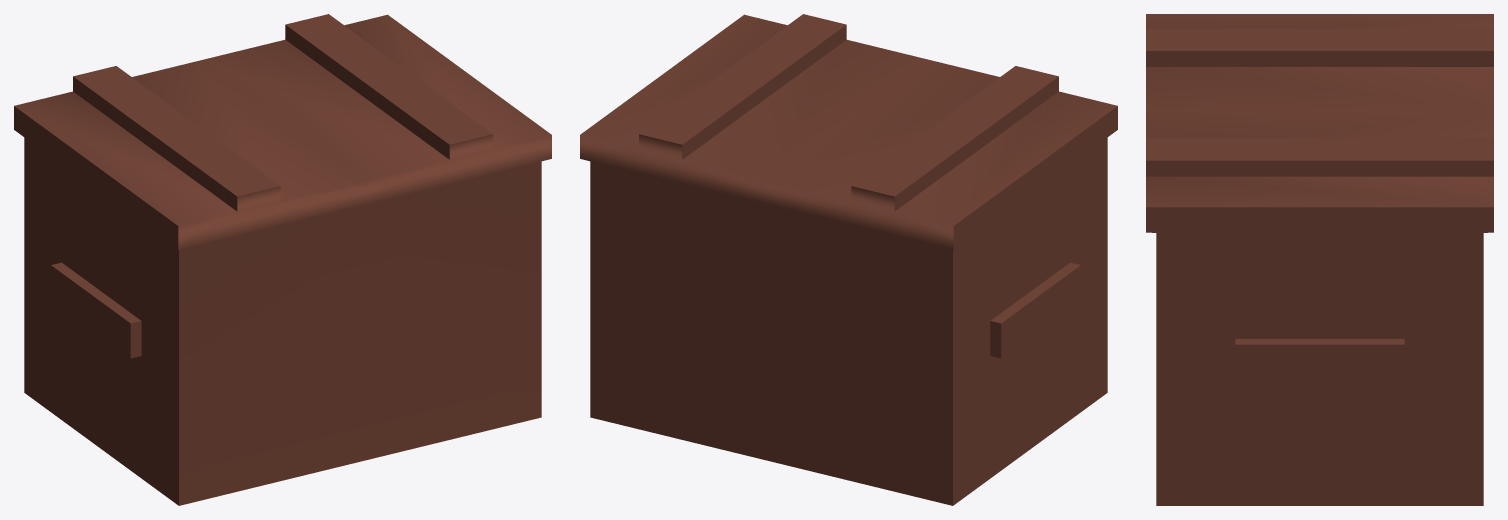
File: crate.fbx
3 views of the same model, side by side, from view 1: azimuth 30°, elevation 25°; view 2: azimuth 150°, elevation 25°; view 3: azimuth 270°, elevation 25° (orthographic). The views are drawn at different scales.
Parts seen in each view (by area): view 1: crate; view 2: crate; view 3: crate.
Part boxes in pixels (left/top/right/bottom): crate: left=14, top=14, right=551, bottom=505; crate: left=580, top=14, right=1117, bottom=505; crate: left=1146, top=14, right=1493, bottom=505.
Size of the model in its own units: 861 by 642 by 637.
